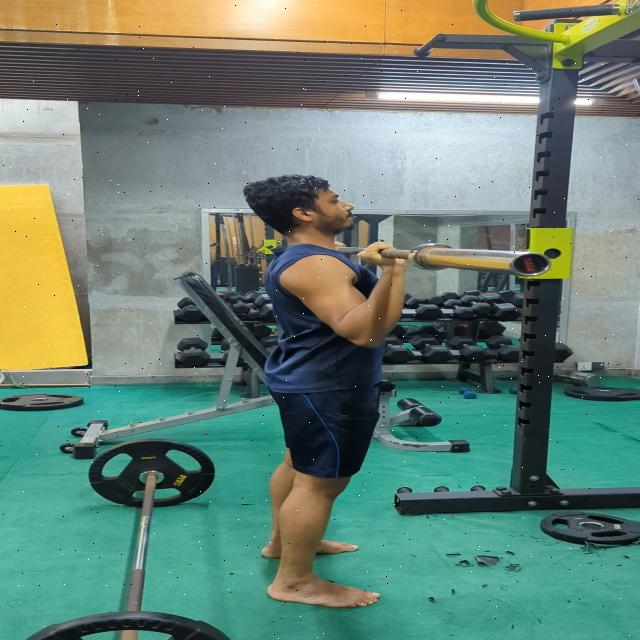Normal_OverheadPress: (219, 162, 442, 623)
